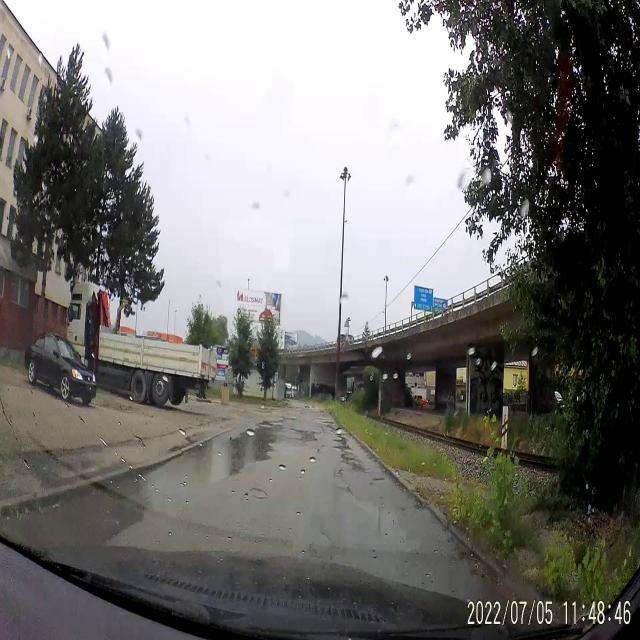Pothole: (246, 482, 271, 504), (342, 458, 366, 470), (328, 430, 349, 442), (330, 444, 356, 452), (370, 474, 386, 484)
